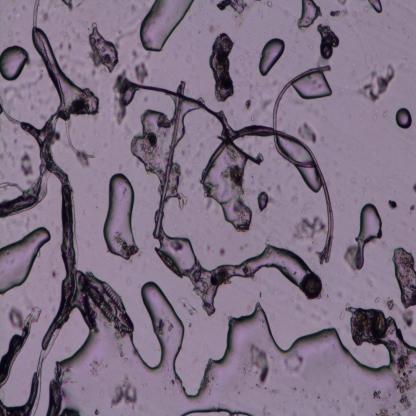Air bubble: (186, 300, 346, 416), (158, 230, 308, 316), (119, 278, 186, 414), (331, 320, 416, 416), (204, 144, 255, 235), (101, 170, 141, 260), (0, 226, 52, 291), (139, 0, 195, 54), (132, 104, 172, 177), (353, 202, 383, 270), (391, 245, 416, 311), (86, 27, 121, 74), (292, 70, 334, 102), (0, 40, 30, 84), (258, 37, 285, 77), (294, 0, 321, 30), (298, 165, 324, 195), (396, 106, 414, 131), (256, 191, 270, 215), (119, 84, 135, 104), (366, 0, 384, 17)
Background material: (124, 74, 263, 166), (147, 78, 187, 242), (207, 30, 236, 102), (344, 300, 388, 345), (359, 63, 398, 107), (392, 350, 416, 416), (110, 67, 131, 123), (290, 214, 326, 244), (247, 342, 271, 386), (110, 378, 140, 412), (167, 165, 188, 209), (218, 159, 244, 190), (318, 23, 341, 48), (20, 146, 36, 177), (209, 269, 233, 288), (286, 350, 304, 375), (298, 122, 319, 142), (178, 297, 197, 317), (343, 246, 358, 271), (214, 0, 249, 10), (398, 308, 416, 327), (141, 145, 158, 165), (134, 62, 149, 84), (8, 307, 22, 329), (231, 9, 244, 30), (30, 71, 46, 86), (9, 88, 23, 105), (114, 339, 124, 362), (60, 404, 79, 416), (249, 81, 262, 96), (388, 196, 400, 212), (370, 386, 383, 400), (72, 28, 83, 44), (126, 1, 139, 14), (114, 33, 125, 48), (160, 117, 172, 130), (244, 95, 254, 110), (89, 358, 99, 373), (59, 0, 74, 10), (261, 98, 272, 110), (158, 319, 166, 335), (219, 244, 228, 258), (293, 294, 302, 308), (330, 8, 341, 18), (57, 53, 68, 63), (1, 136, 9, 149), (206, 23, 219, 31), (288, 194, 298, 204), (302, 203, 311, 214), (124, 126, 131, 140), (149, 130, 155, 146), (387, 299, 394, 312), (270, 197, 279, 207), (185, 166, 192, 178), (67, 40, 73, 53), (276, 183, 282, 196), (409, 200, 416, 211), (84, 51, 93, 59), (132, 48, 138, 59), (76, 0, 83, 9), (40, 112, 47, 121), (349, 176, 356, 185), (205, 244, 212, 252), (14, 12, 21, 20), (6, 13, 13, 21), (142, 95, 148, 104), (51, 270, 56, 280), (93, 406, 98, 416), (1, 151, 6, 161), (316, 394, 321, 404), (308, 43, 315, 50), (266, 0, 273, 7), (62, 30, 68, 38), (92, 22, 98, 30), (338, 310, 344, 318), (238, 54, 244, 62), (383, 110, 389, 118), (59, 41, 64, 50), (208, 202, 214, 209), (412, 184, 416, 194), (198, 1, 204, 7), (338, 294, 344, 300), (272, 79, 278, 85), (22, 3, 27, 10), (92, 69, 97, 76), (198, 27, 203, 34), (295, 36, 300, 43), (118, 27, 122, 35), (250, 114, 254, 122), (260, 13, 264, 21), (375, 297, 380, 303), (290, 47, 296, 52), (259, 6, 263, 12), (253, 0, 260, 3), (78, 73, 83, 77), (44, 13, 46, 21), (182, 152, 186, 156), (10, 30, 12, 36)
Cellulose filter fibre: (0, 110, 83, 416), (30, 0, 92, 163), (0, 106, 61, 219), (0, 303, 42, 393), (46, 360, 65, 416)
Diatom: (84, 274, 134, 336), (154, 246, 183, 278), (303, 272, 323, 300), (318, 41, 335, 60)
Microfibre: (198, 124, 336, 267), (274, 63, 332, 169)
